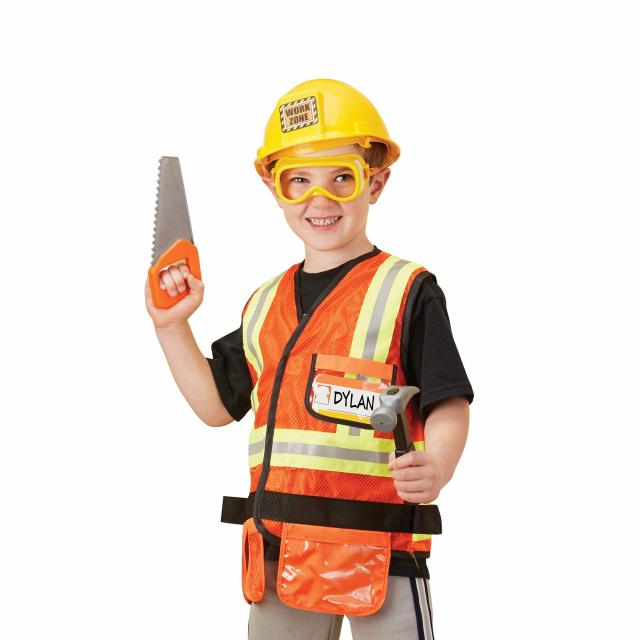Reflective-Jacket: (233, 250, 438, 594)
Safety-Helmet: (251, 74, 401, 172)
